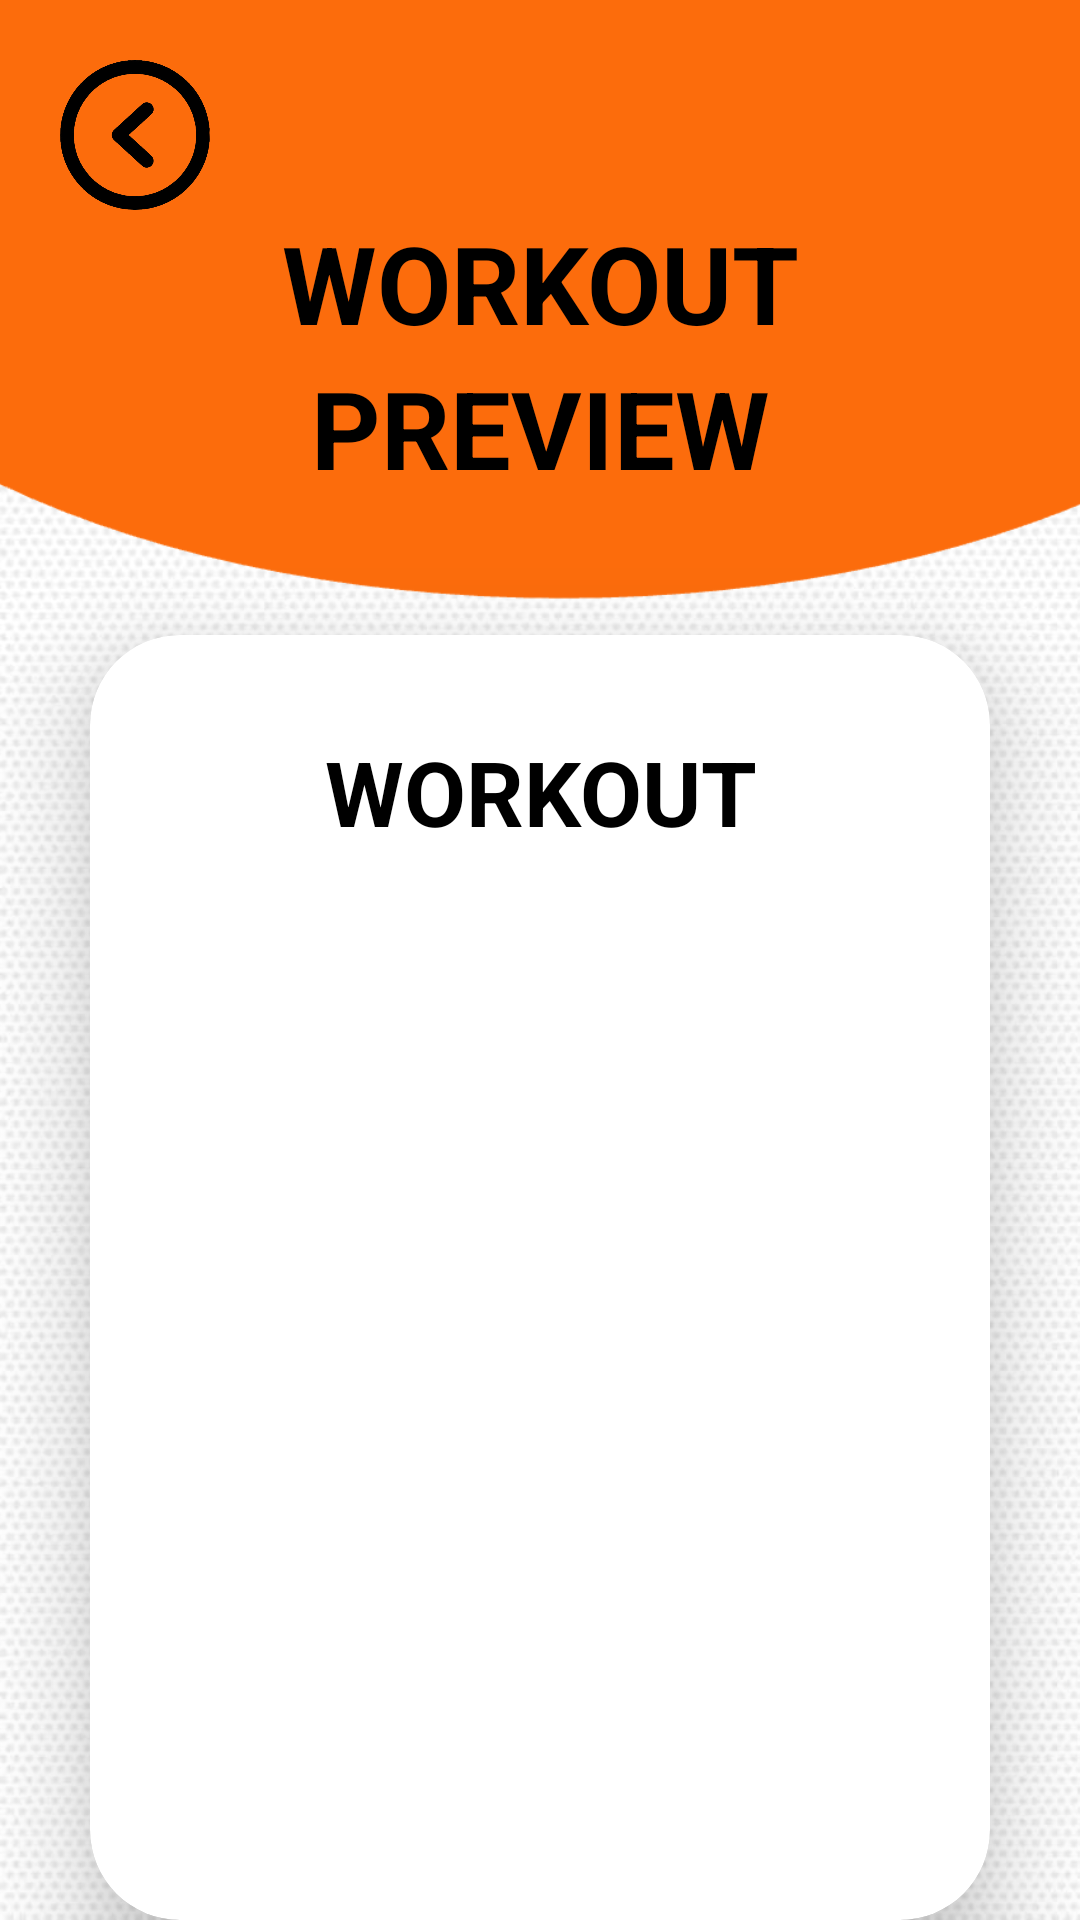

Where icons sit on this 1080×1920 app screen, as (x1=x1, y1=y1, x2=x2, y2=y2):
freccia: (x1=60, y1=60, x2=210, y2=210)
